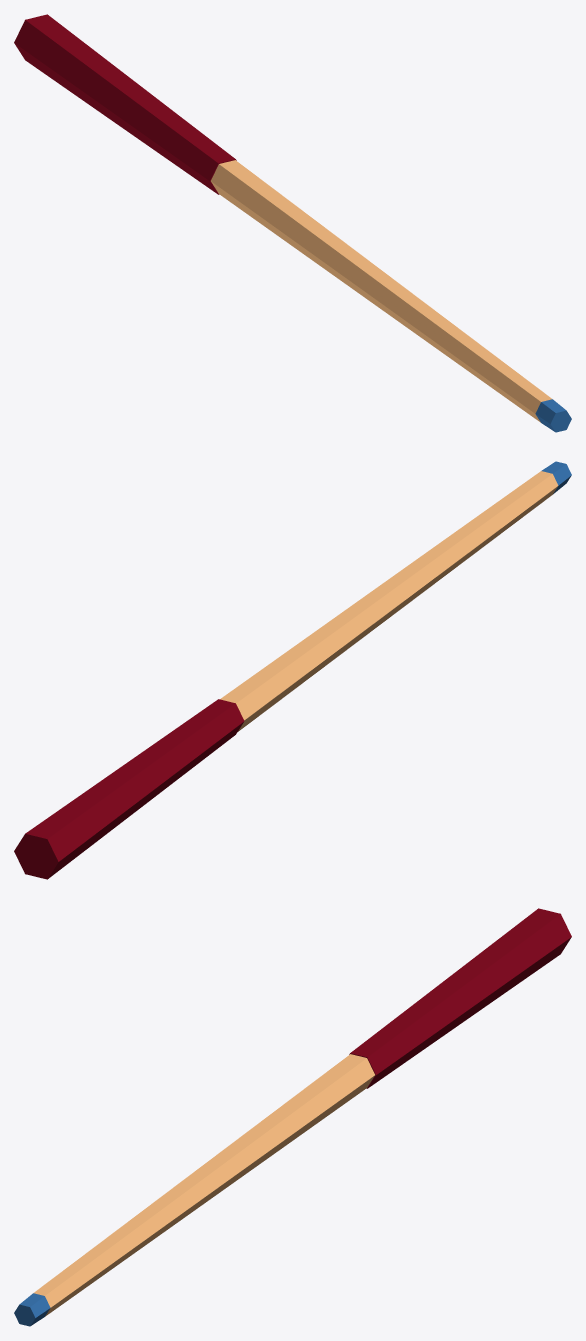
Rendered from cue.glb.
3 views of the same model, one above another, from view 1: azimuth 30°, elevation 25°; view 2: azimuth 150°, elevation 25°; view 3: azimuth 330°, elevation 25° (orthographic).
Visible parts, largest first — view 1: Shaft; view 2: Shaft; view 3: Shaft.
Boxes of the visible parts, box(x1,y1,x2,y2) form: Shaft: box(14, 14, 571, 432); Shaft: box(14, 461, 571, 879); Shaft: box(14, 908, 571, 1326).
Size of the model in its own units: 0.054 by 0.0468 by 1.1.
